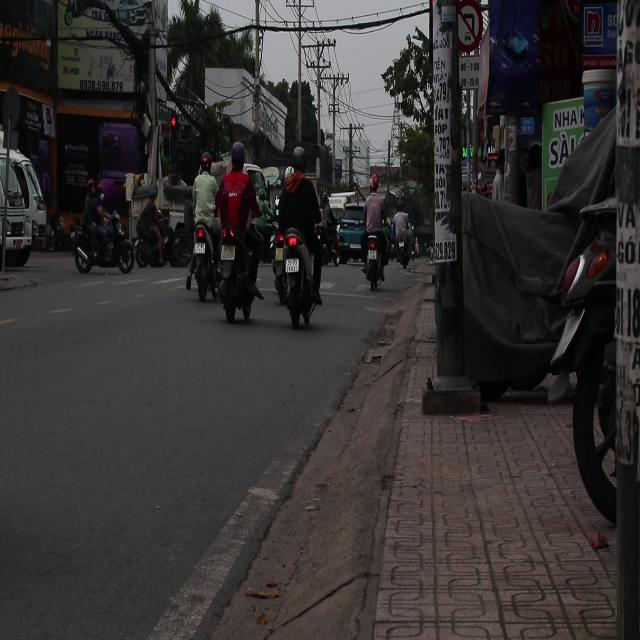car: (336, 207, 366, 263)
motorbike: (271, 220, 321, 330), (217, 218, 266, 326), (73, 212, 135, 276), (184, 218, 222, 300), (362, 232, 388, 292)
truck: (0, 146, 48, 271)
